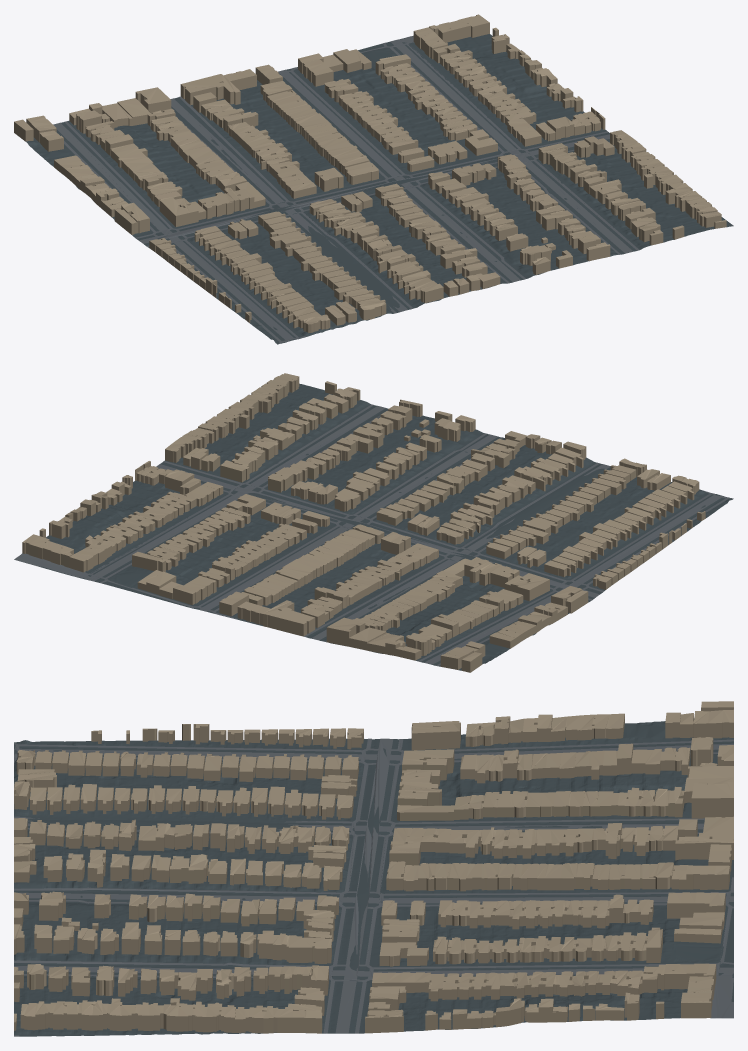
File: epsg26910-1419-10884.lod0.glb
3 renders of one model, top to bottom at view 1: azimuth 30°, elevation 25°; view 2: azimuth 150°, elevation 25°; view 3: azimuth 270°, elevation 25°, orthographic. The views are drawn at different scales.
Parts seen in each view (by area): view 1: epsg26910-1419-10884-lod0; view 2: epsg26910-1419-10884-lod0; view 3: epsg26910-1419-10884-lod0.
Boxes of the visible parts, box(x1,y1,x2,y2) form: epsg26910-1419-10884-lod0: box(14, 14, 733, 344); epsg26910-1419-10884-lod0: box(14, 373, 733, 672); epsg26910-1419-10884-lod0: box(14, 701, 733, 1036).
Size of the model in its own units: 384 by 25.75 by 384.
